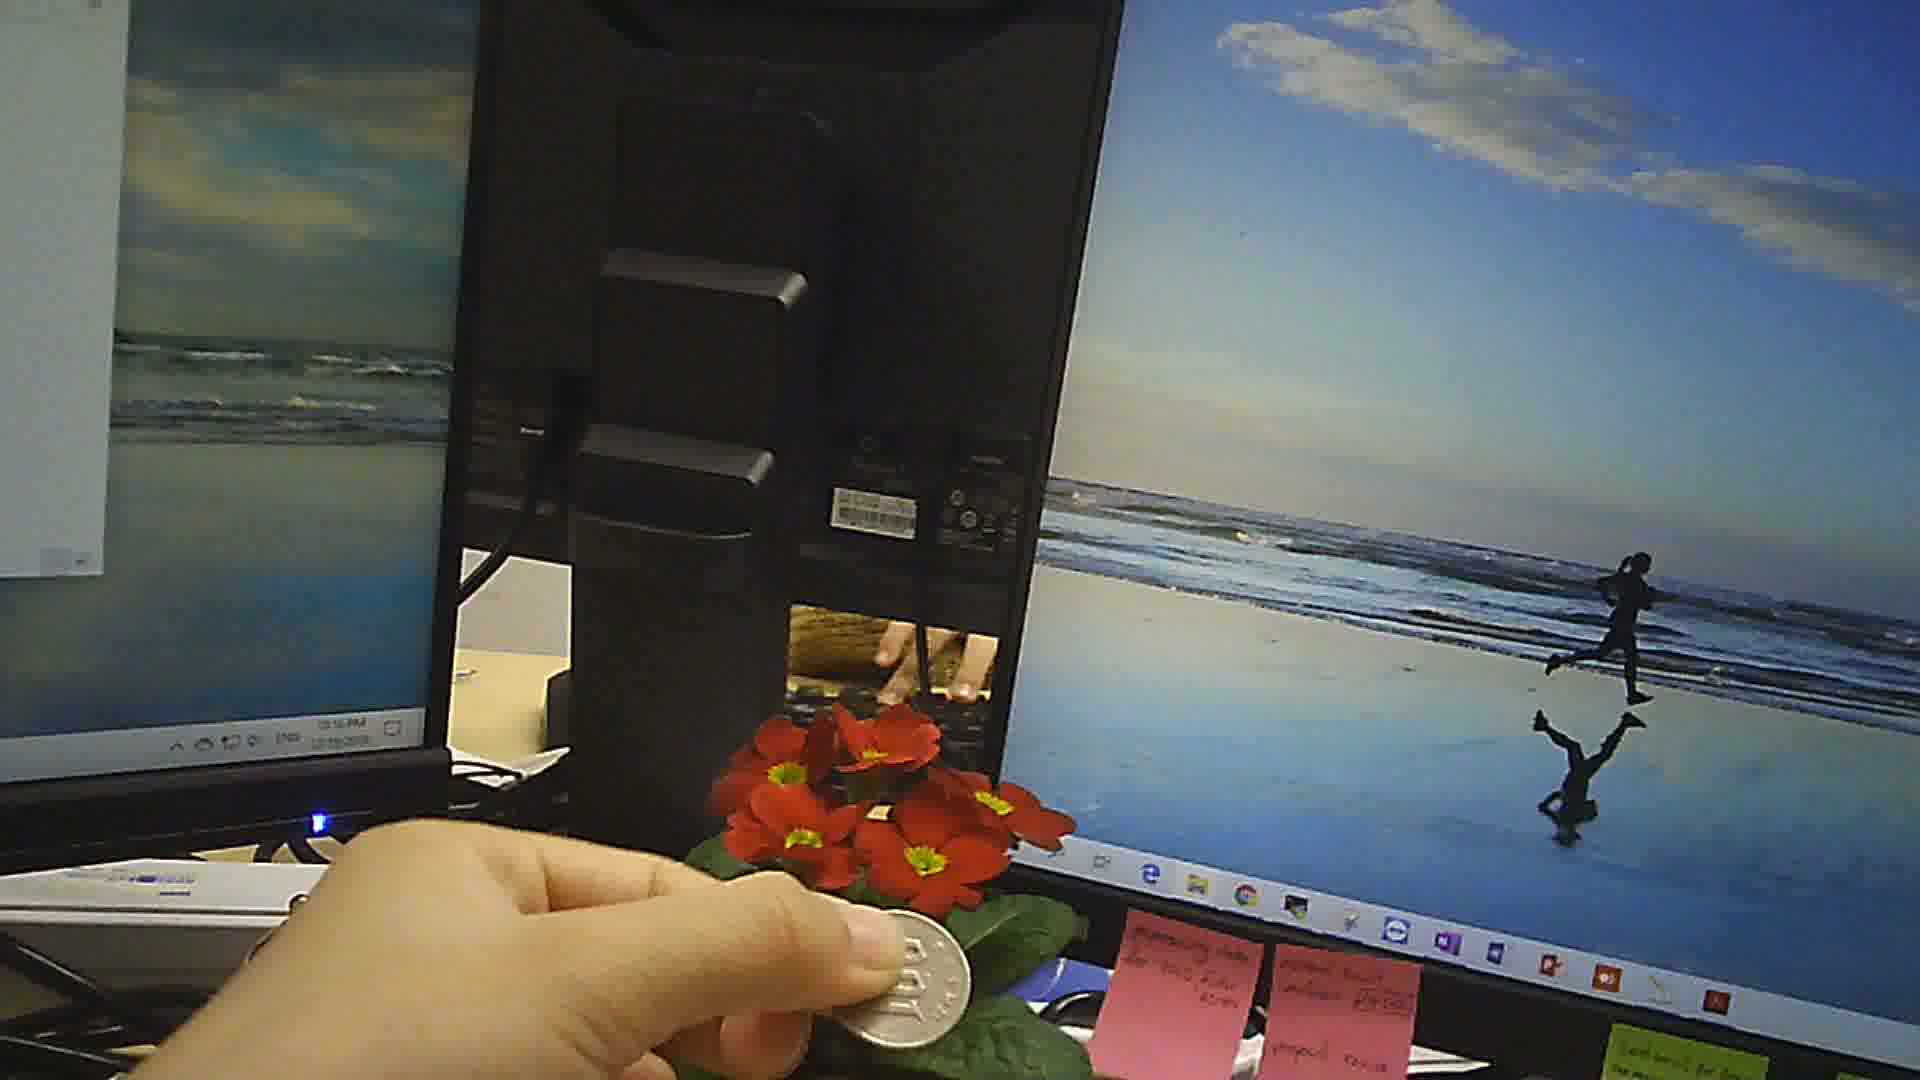100 Yen: (827, 901, 984, 1054)
